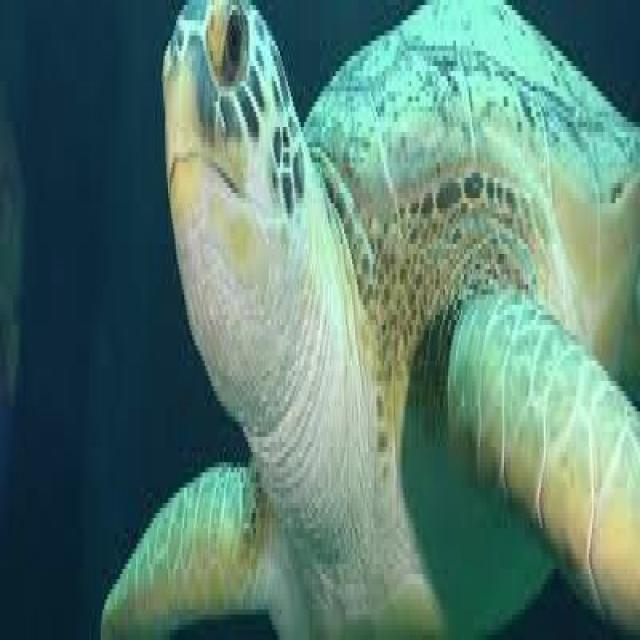turtle: (106, 0, 640, 635)
